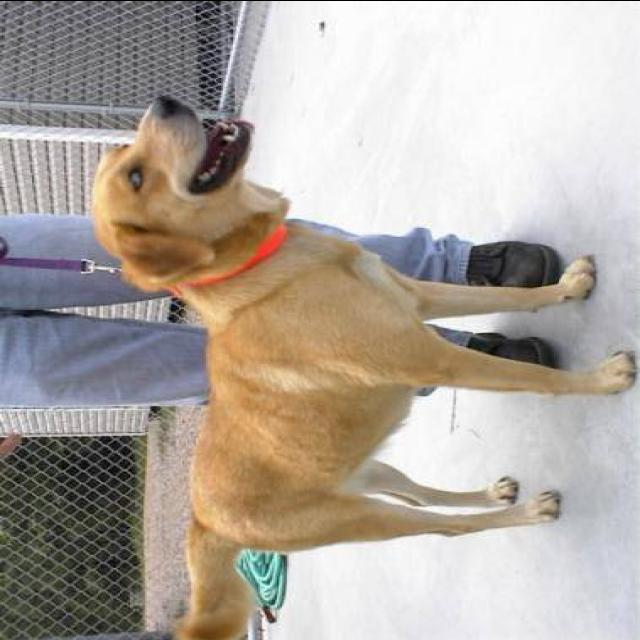dog: (69, 81, 640, 640)
